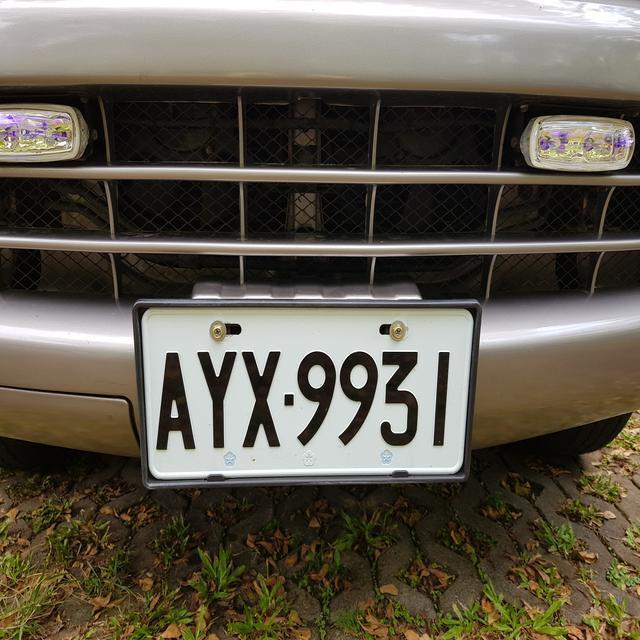license: (145, 343, 462, 457)
